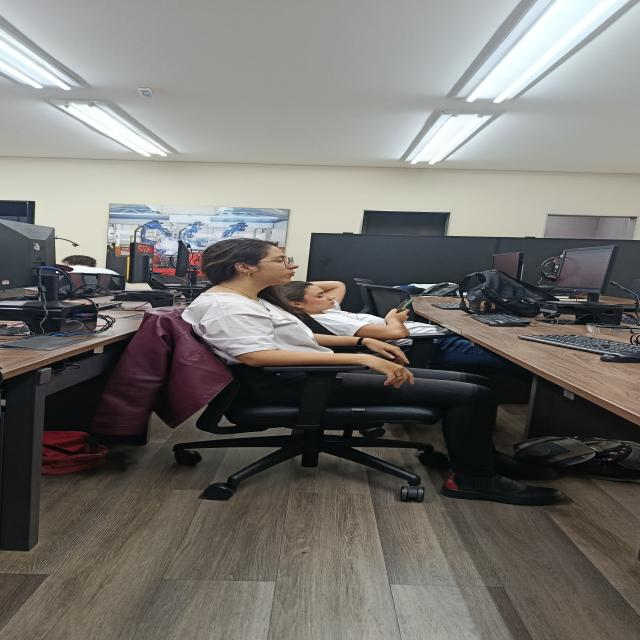sem_oculos: (260, 256, 294, 268), (306, 293, 334, 299)
